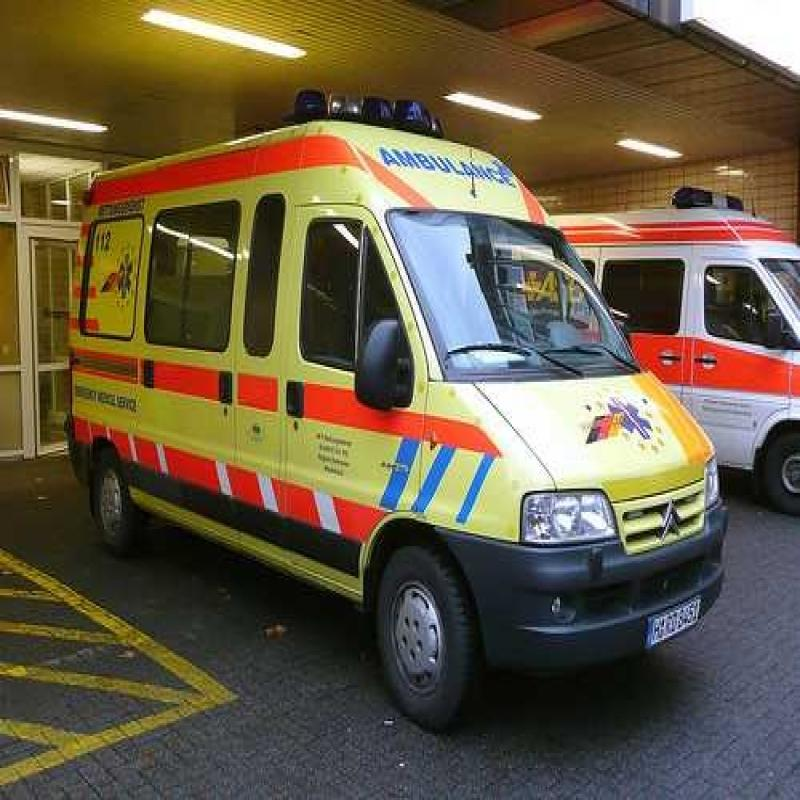AmbulanceSiren: (288, 77, 437, 137)
